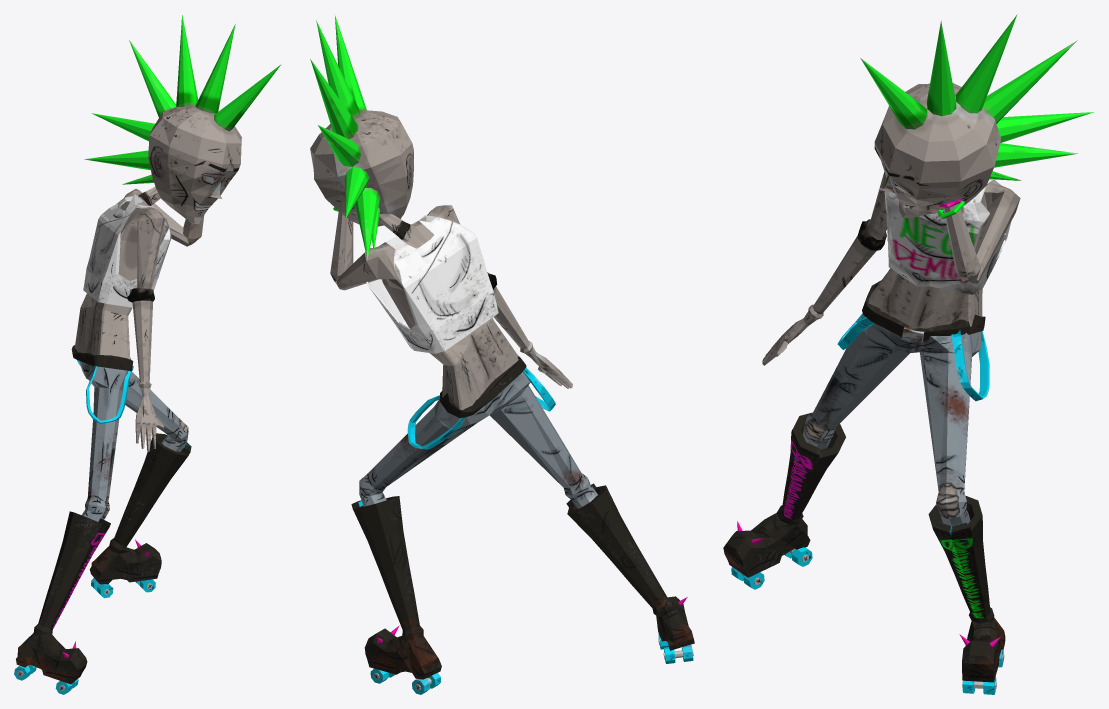
Rendered from punkAnimation_000060.obj.
3 renders of one model, left to right at view 1: azimuth 30°, elevation 25°; view 2: azimuth 150°, elevation 25°; view 3: azimuth 270°, elevation 25°, orthographic. The views are drawn at different scales.
Visible parts, largest first — view 1: Cube.004_Cube.003; view 2: Cube.004_Cube.003; view 3: Cube.004_Cube.003.
Boxes of the visible parts, x1=… form: Cube.004_Cube.003: x1=14, y1=15, x2=281, y2=694; Cube.004_Cube.003: x1=310, y1=15, x2=694, y2=694; Cube.004_Cube.003: x1=723, y1=14, x2=1093, y2=694.
Bounding box in the file's own units: 3.68 × 6.67 × 3.11.
